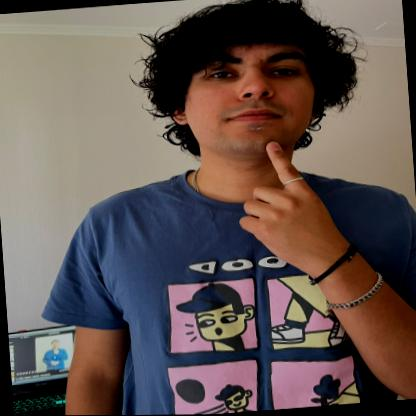T: (231, 132, 346, 284)
